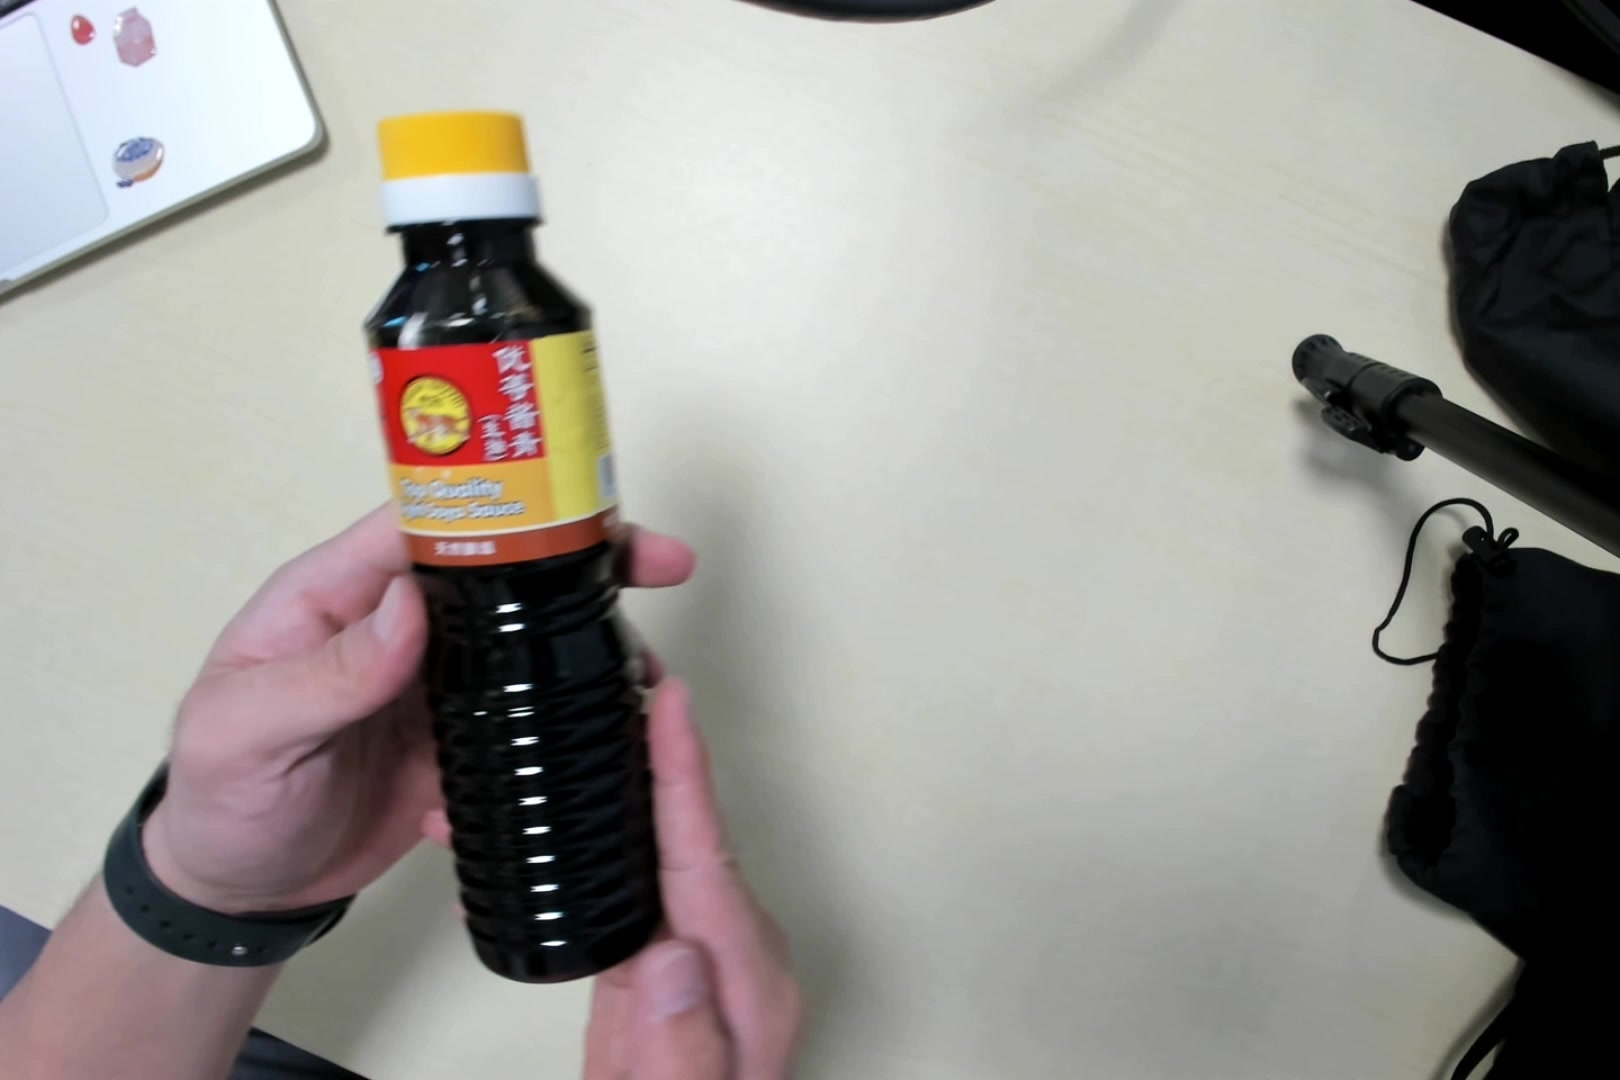LightSoySauce_300-399g_Halal_NonHealthy: (356, 113, 662, 987)
